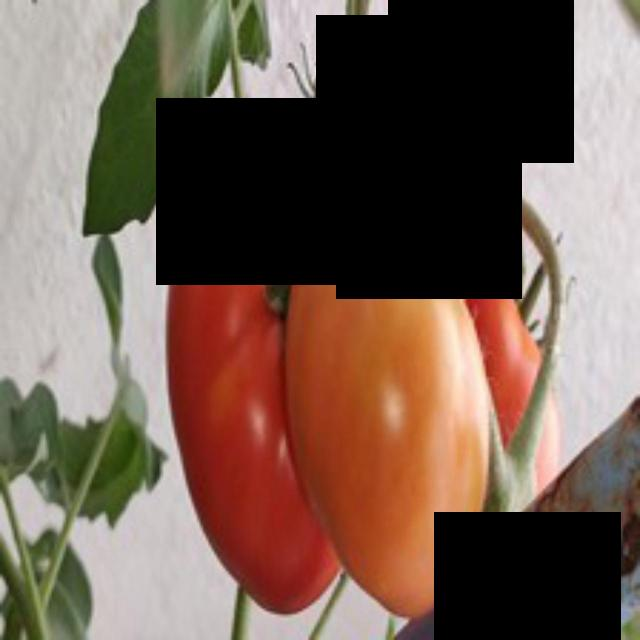tomato: (278, 154, 498, 640)
